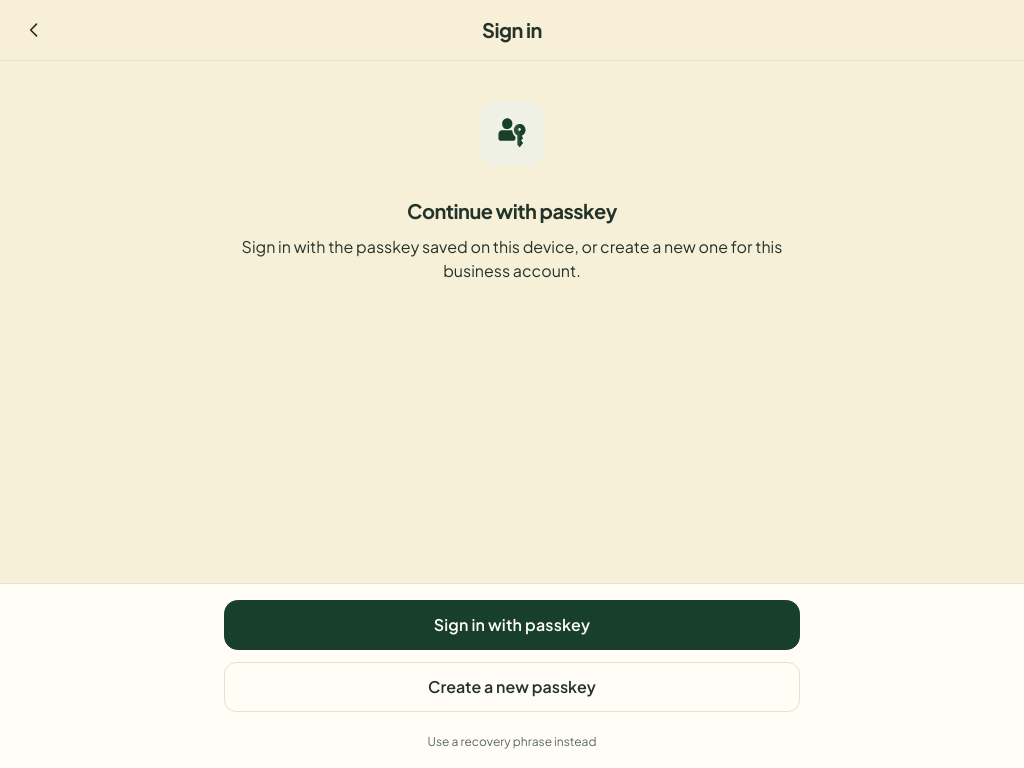
PasskeyPage › reports a wallet-service failure after a successful derivation and retries without another prompt
Later steps or results of the test are not shown.
Click the button with test id "passkey-create-button": (512, 687) x1=224 y1=662 x2=800 y2=712
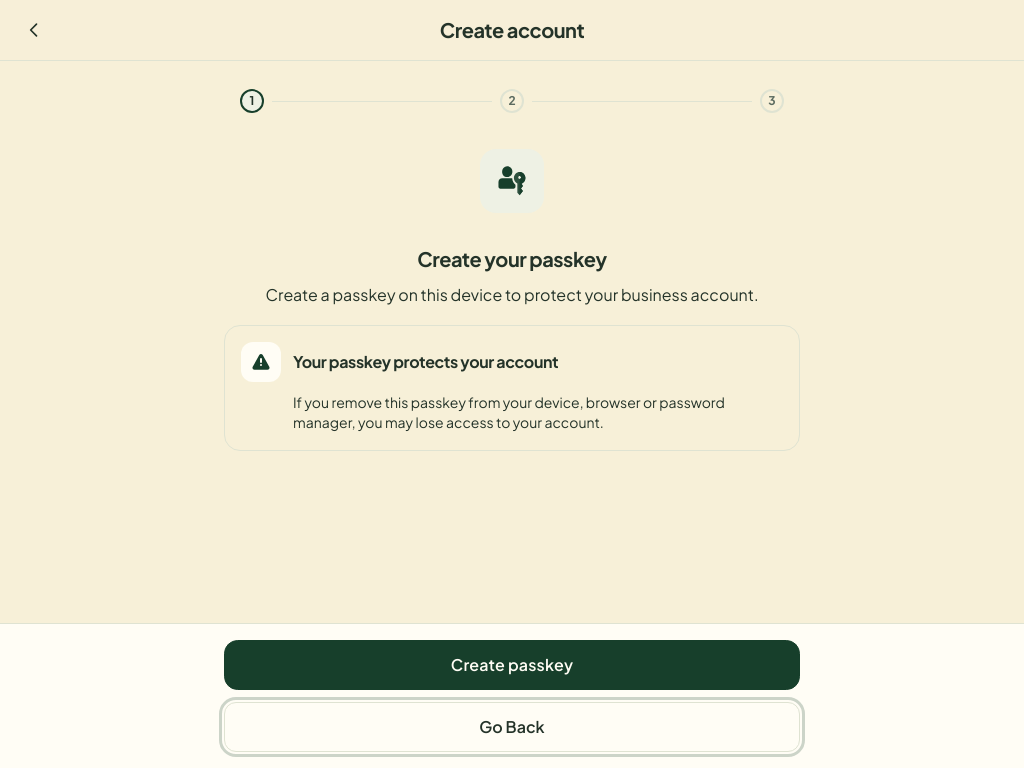
Click the button with test id "passkey-create-confirm-button": (512, 665) x1=224 y1=640 x2=800 y2=690
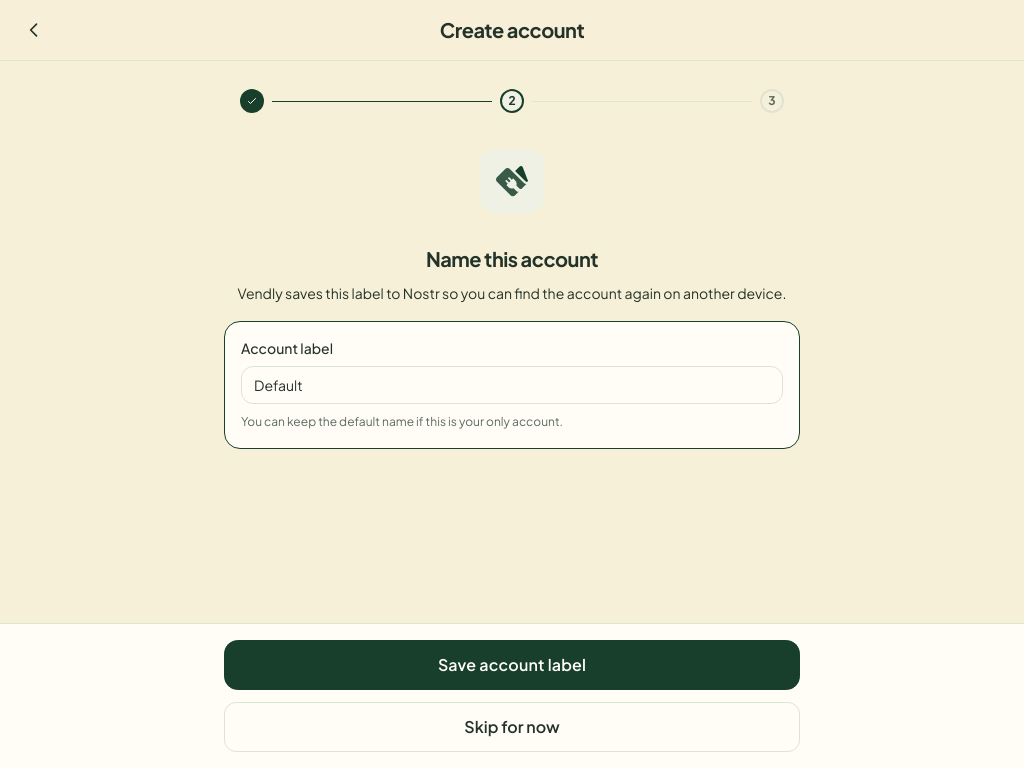
Expected: the heading "Name this account" is shown, x1=426 y1=246 x2=598 y2=271
Click the button with test id "passkey-save-label-button": (512, 665) x1=224 y1=640 x2=800 y2=690
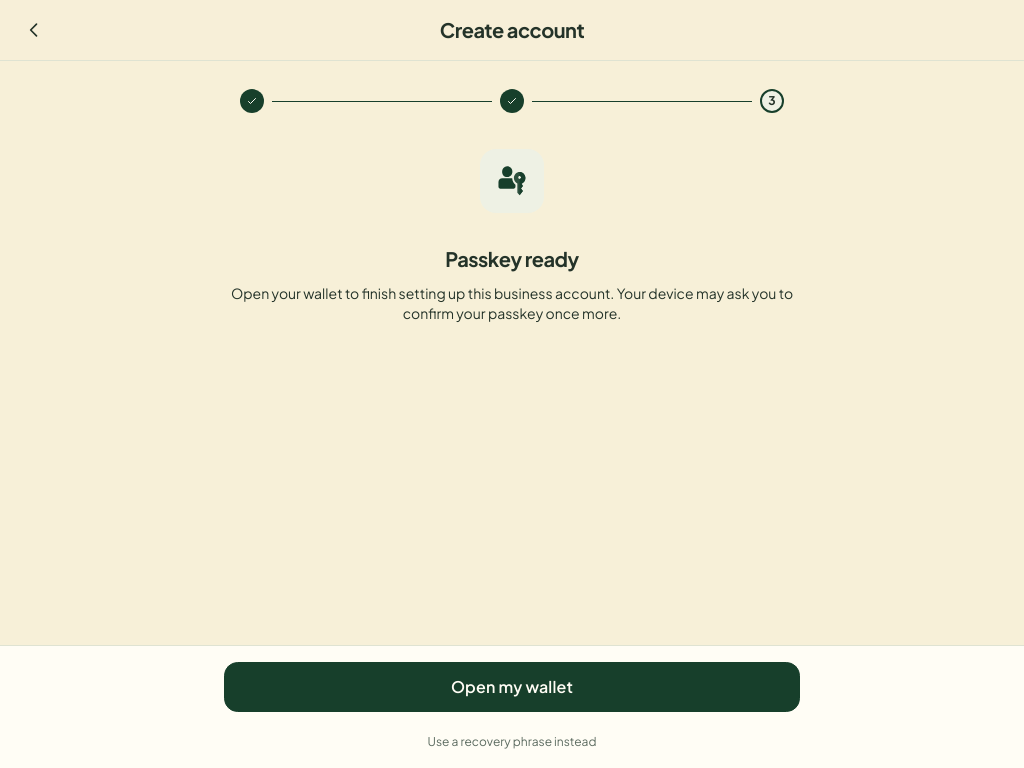
Expected: the heading "Passkey ready" is shown, x1=445 y1=246 x2=579 y2=271
Click the button with test id "passkey-open-wallet-button": (512, 687) x1=224 y1=662 x2=800 y2=712
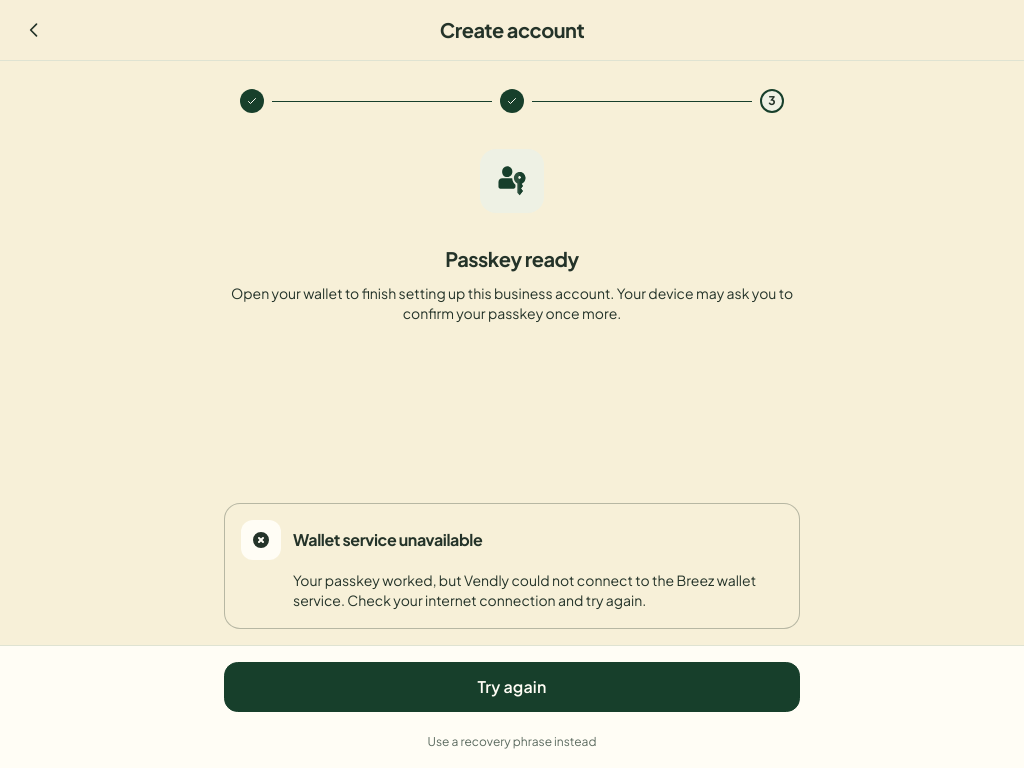
Expected: the heading "Wallet service unavailable" is shown, x1=293 y1=528 x2=482 y2=552
